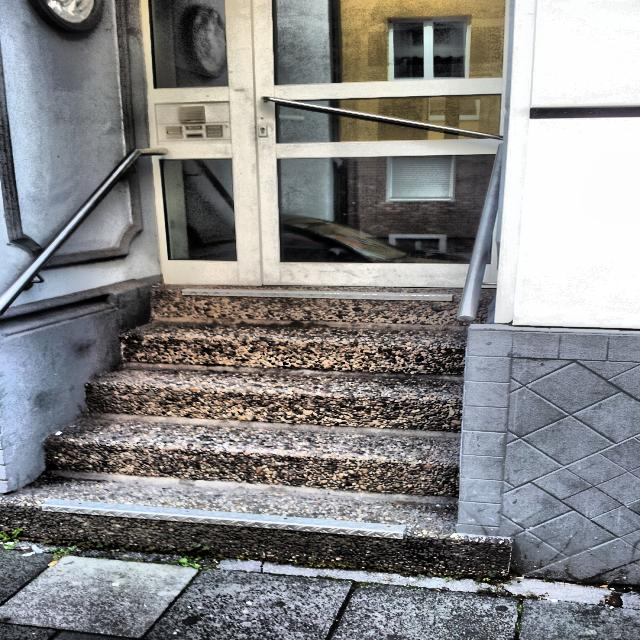escada: (4, 282, 511, 580)
